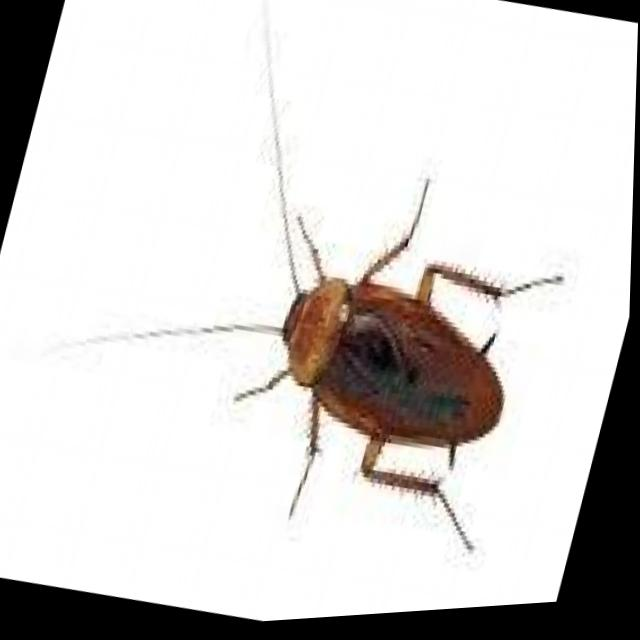Cockroach: (21, 0, 640, 631)
